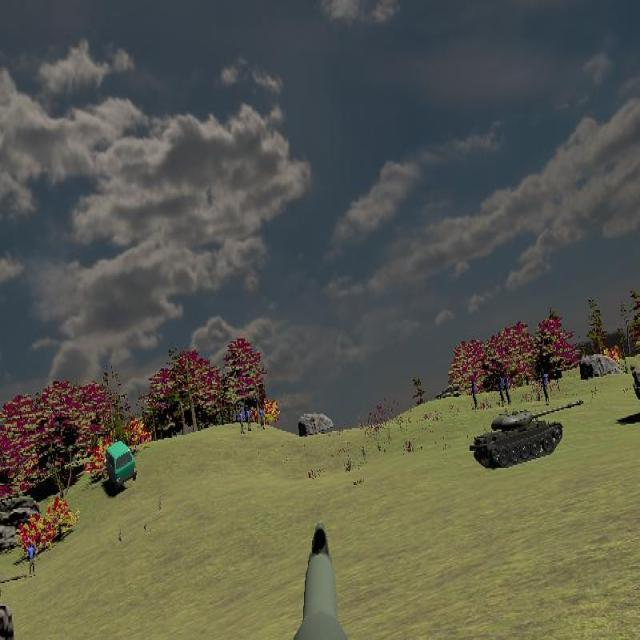Tank: (469, 400, 584, 471), (632, 360, 640, 404)
car: (106, 441, 137, 492)
